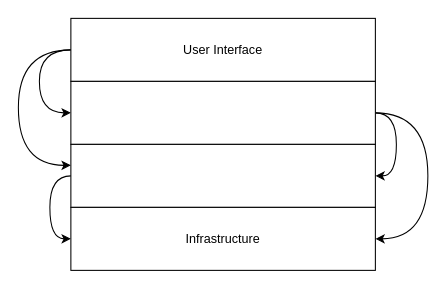
Some shapes in this 446 by 289 pixel diagram are drawn without their labels. The shapes that lost their labels are listed below. From the top down, each one's centre as x and y in pixels, then its label:
At [222,112]: "Application".
At [222,175]: "Domain".
